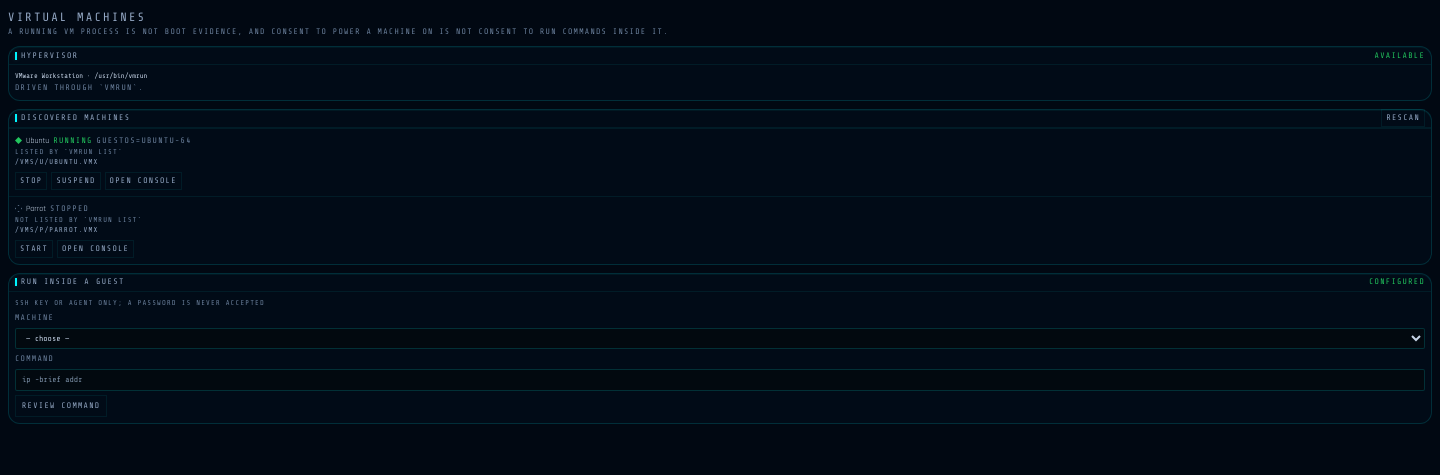
Test case: VirtualMachinesView › reports an unresolved name with the backend's candidate list
The width and height of the screenshot is (1440, 475).
Expected: the list named "Discovered machines" is shown, [9,128,1431,264]
Force a click on a machine whose action the stub refuses.
Step 1. Click the button "SUSPEND" → (76,180), box [51,172,101,190]
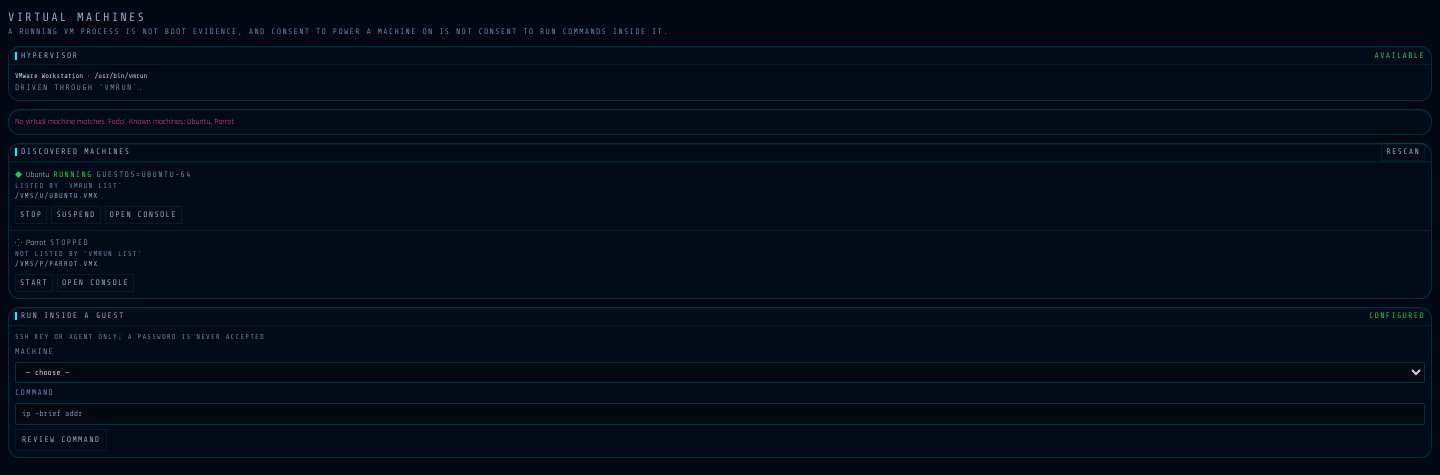
Expected: the message shows "Known machines: Ubuntu, Parrot", [15,116,234,126]
